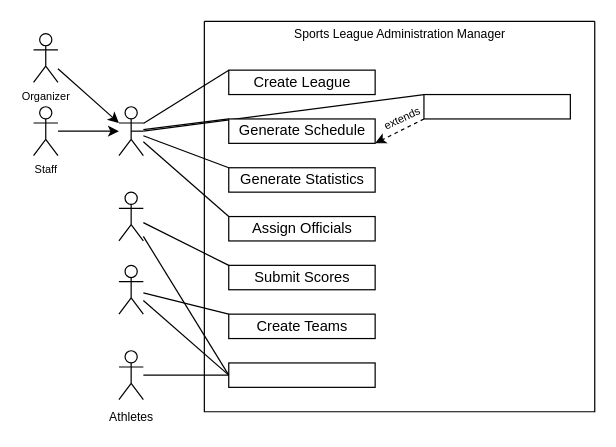
Some shapes in this 616 by 447 pixel diagram are drawn without their labels. The centre of each missing label's shape, as x and y in pixels:
Administrators: (130,131)
Coaches: (130,289)
Generate Bracket: (496,106)
Officials: (130,216)
View Schedule: (301,374)
